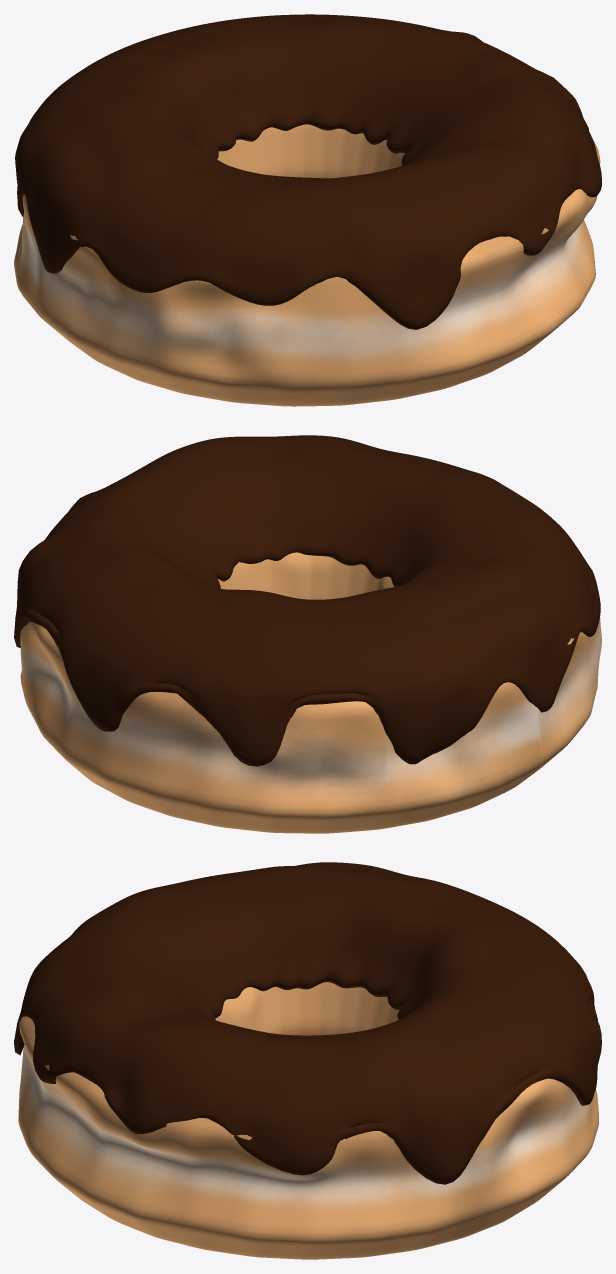
File: asset.glb
The picture shows the model from 3 angles, top to bottom: view 1: azimuth 30°, elevation 25°; view 2: azimuth 150°, elevation 25°; view 3: azimuth 270°, elevation 25°; orthographic projection.
Parts seen in each view (by area): view 1: Icing.001, Donut.001; view 2: Icing.001, Donut.001; view 3: Icing.001, Donut.001.
Part boxes in pixels (box(x1,y1,x2,y2)): Icing.001: box(15, 14, 601, 329); Donut.001: box(14, 124, 600, 406); Icing.001: box(14, 435, 600, 766); Donut.001: box(20, 552, 601, 833); Icing.001: box(14, 862, 601, 1184); Donut.001: box(18, 982, 598, 1259).
Bounding box in the file's own units: 0.1484 × 0.0601 × 0.1479.
Materials: 2 (1 with a texture image).
